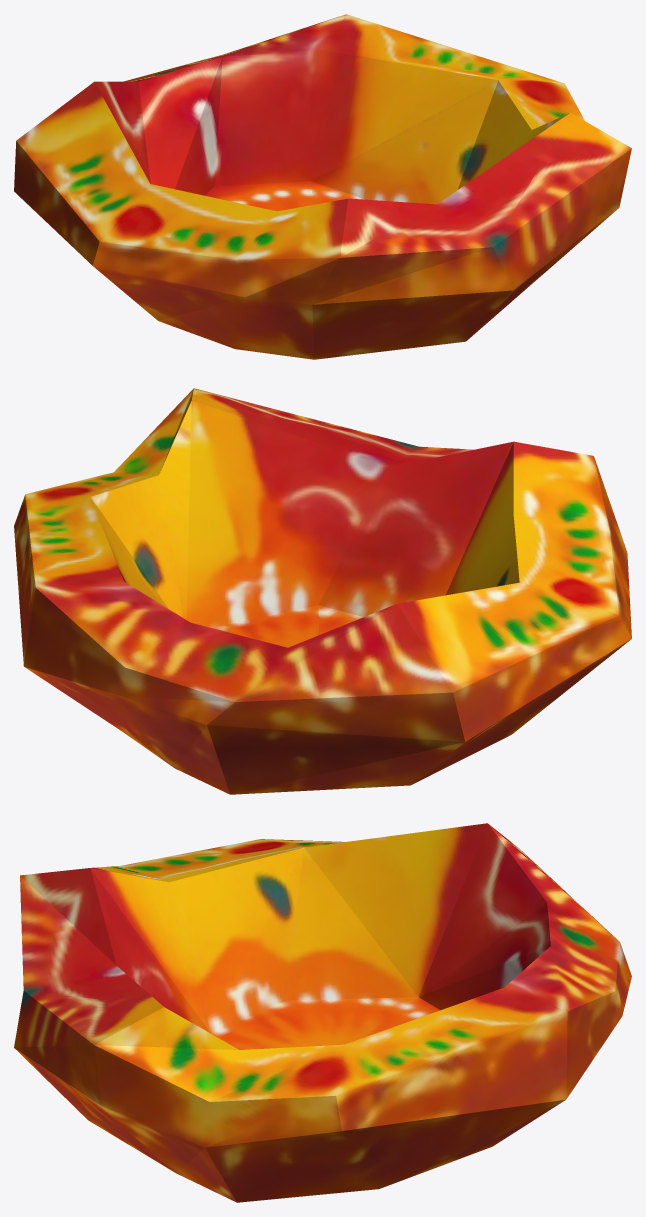
File: diya_color_01.glb
The picture shows the model from 3 angles, top to bottom: view 1: azimuth 30°, elevation 25°; view 2: azimuth 150°, elevation 25°; view 3: azimuth 270°, elevation 25°; orthographic projection. The views are drawn at different scales.
Parts seen in each view (by area): view 1: diya_mesh; view 2: diya_mesh; view 3: diya_mesh.
Part boxes in pixels (box(x1,y1,x2,y2)): diya_mesh: box(14, 14, 631, 359); diya_mesh: box(14, 388, 631, 794); diya_mesh: box(14, 823, 631, 1202).
Size of the model in its own units: 0.27 by 0.0874 by 0.253.
Materials: 1 (1 with a texture image).
